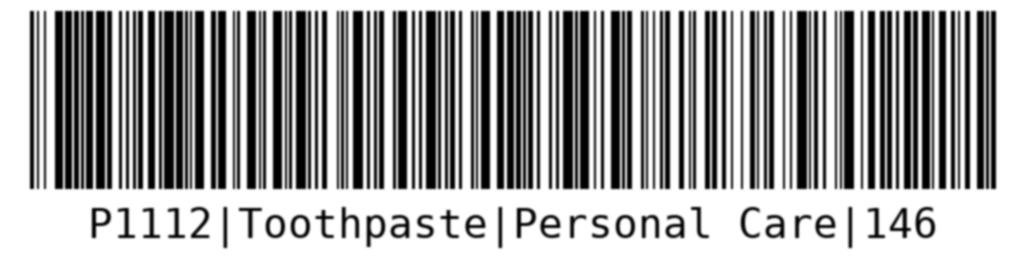milk: (21, 6, 1004, 253)
